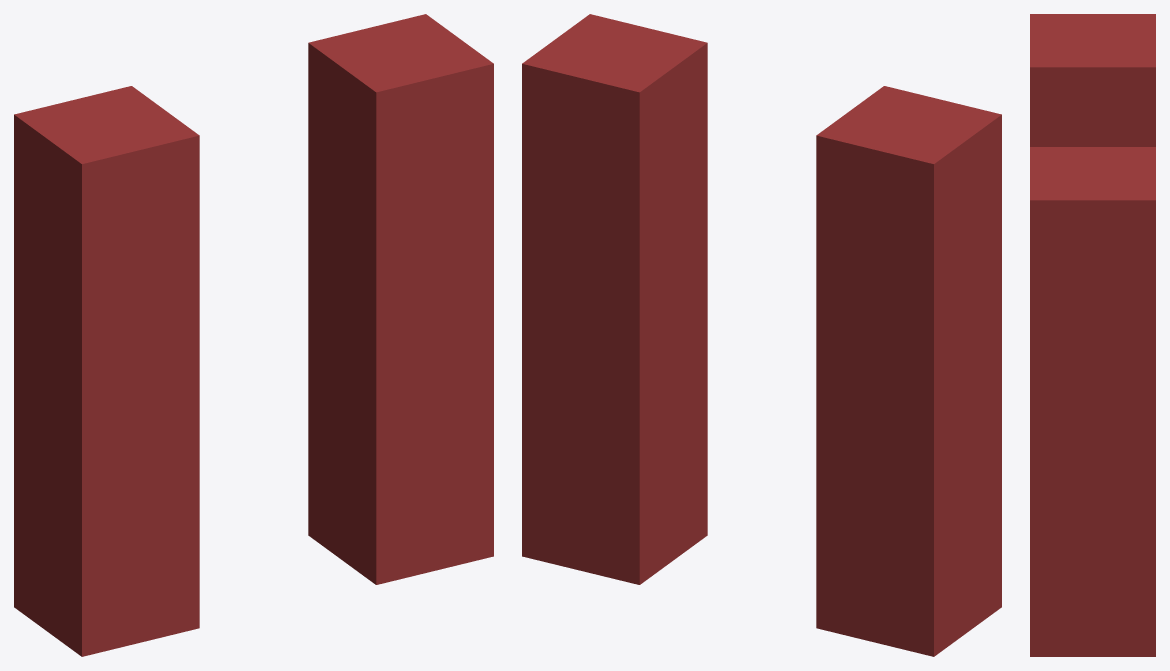
File: legendario_piernas_orco_01.glb
3 renders of one model, left to right at view 1: azimuth 30°, elevation 25°; view 2: azimuth 150°, elevation 25°; view 3: azimuth 270°, elevation 25°, orthographic. The views are drawn at different scales.
Parts seen in each view (by area): view 1: legendario_piernas_orco; view 2: legendario_piernas_orco; view 3: legendario_piernas_orco.
Boxes of the visible parts, left/top/right/bottom form: legendario_piernas_orco: left=14, top=14, right=493, bottom=656; legendario_piernas_orco: left=522, top=14, right=1001, bottom=656; legendario_piernas_orco: left=1030, top=14, right=1155, bottom=656.
Size of the model in its own units: 0.5833 by 0.6667 by 0.1667.
